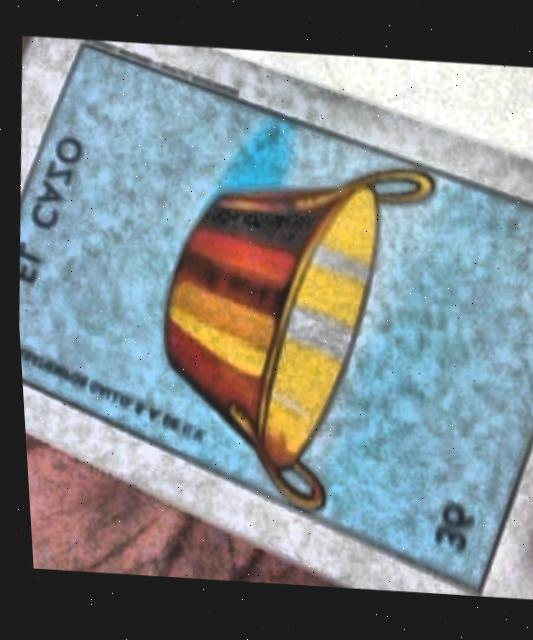El Cazo: (14, 44, 533, 587)
